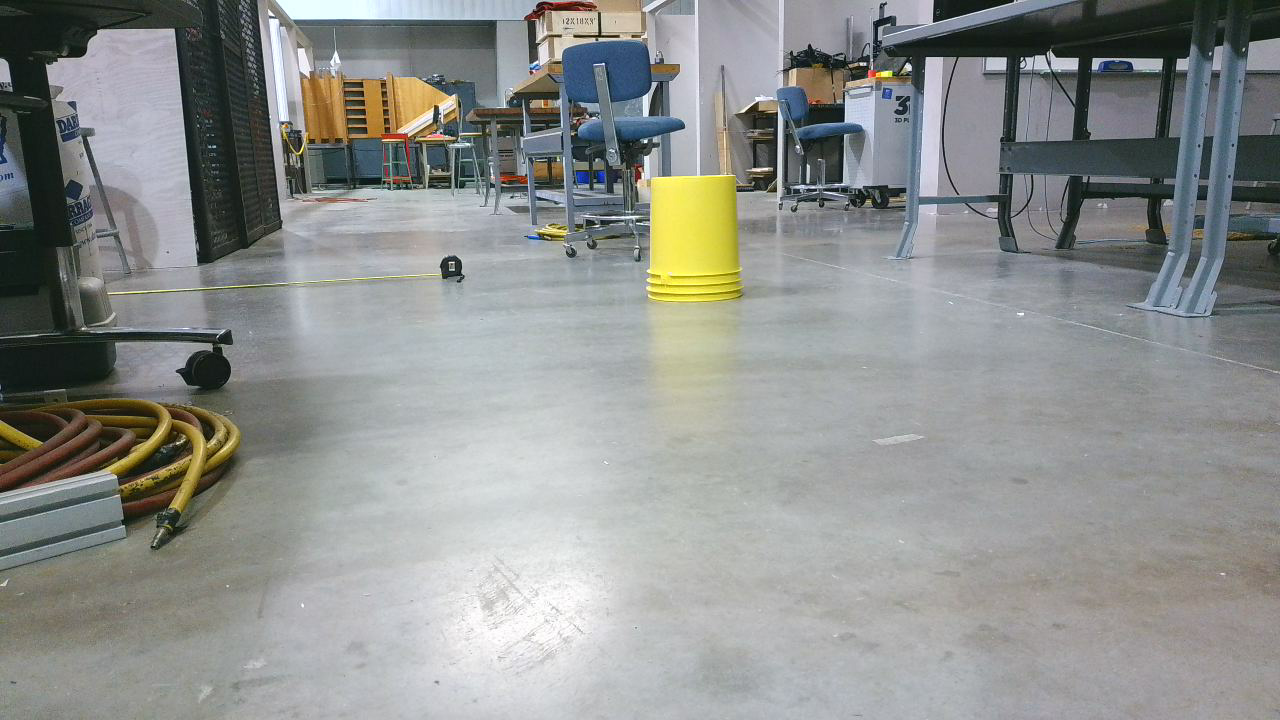yellow_bucket: (651, 182, 752, 309)
